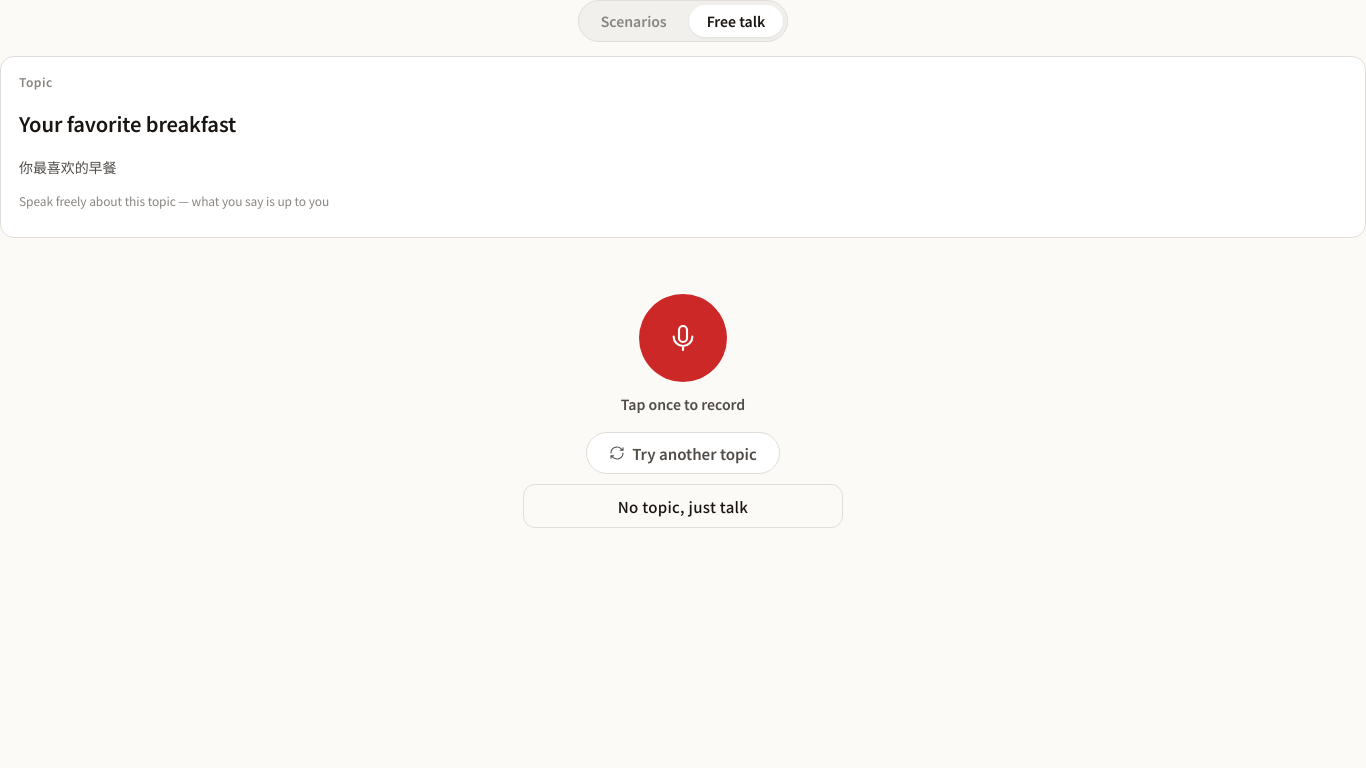
PracticePage 自由说模式 › no-topic button creates a session without topic and starts recording
The width and height of the screenshot is (1366, 768).
Expected: the text "Your favorite breakfast" is shown, x1=19 y1=109 x2=236 y2=138
Click the button "No topic, just talk" at {"x": 683, "y": 506}, box x1=523 y1=484 x2=843 y2=528
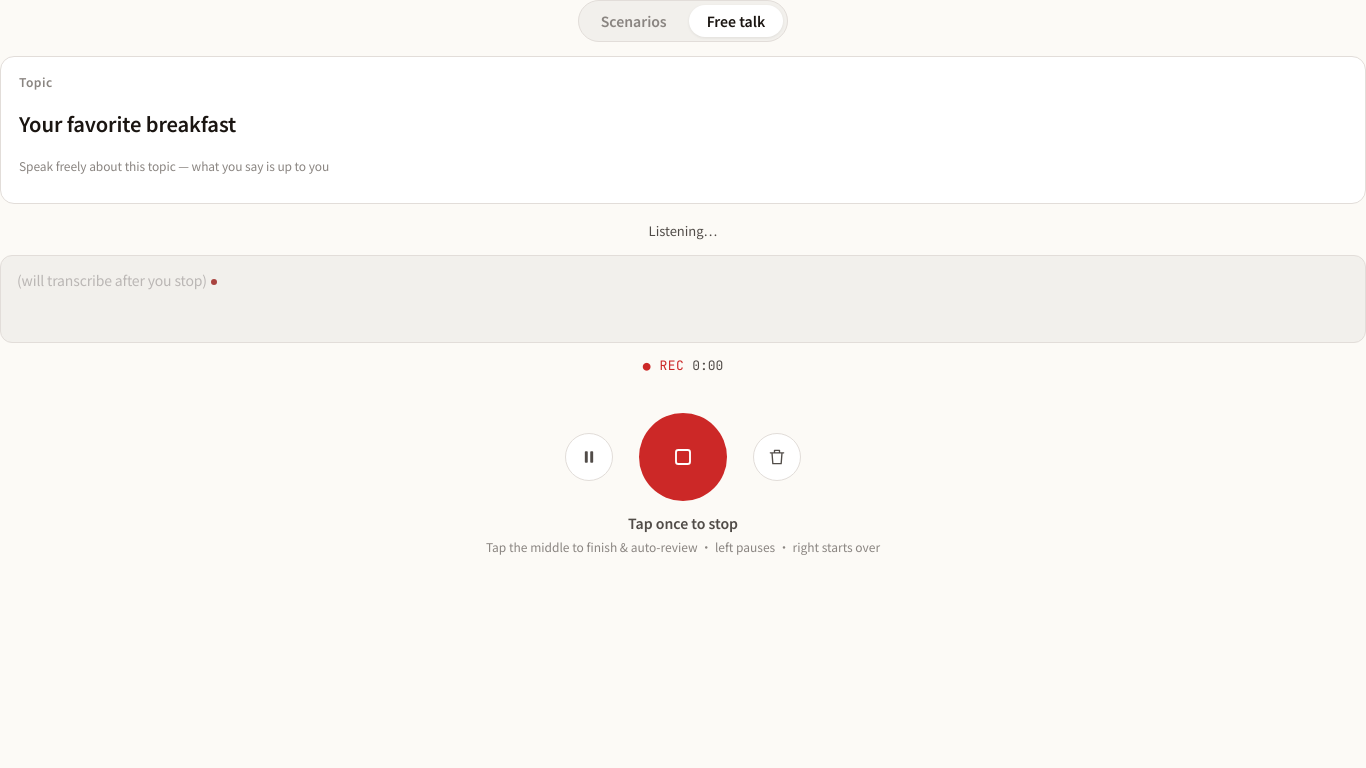
Expected: the text "Tap once to stop" is shown, x1=628 y1=514 x2=738 y2=534
